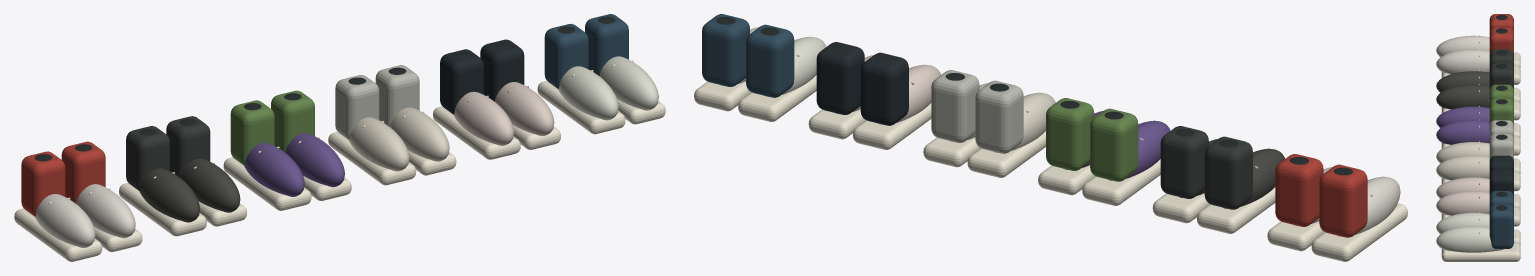
File: shelf-shoes.glb
3 renders of one model, left to right at view 1: azimuth 30°, elevation 25°; view 2: azimuth 150°, elevation 25°; view 3: azimuth 270°, elevation 25°, orthographic. The views are drawn at different scales.
Visible parts, largest first — view 1: shelf-shoes; view 2: shelf-shoes; view 3: shelf-shoes.
Boxes of the visible parts, box(x1,y1,x2,y2) form: shelf-shoes: box(14, 14, 665, 261); shelf-shoes: box(694, 14, 1407, 261); shelf-shoes: box(1436, 14, 1520, 261).
Bounding box in the file's own units: 1.53 × 0.1756 × 0.27.
